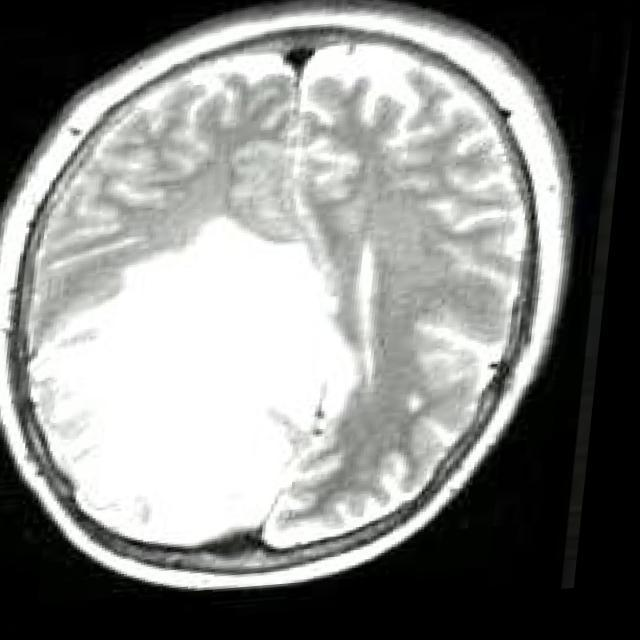Tumor: (49, 225, 364, 544)
